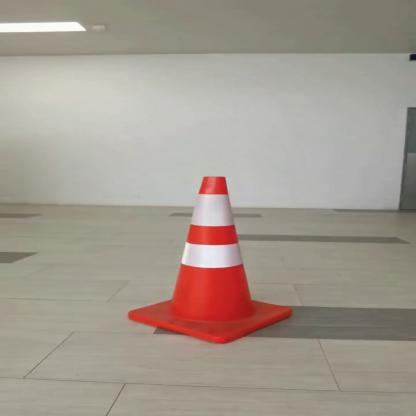cone: (114, 172, 301, 346)
